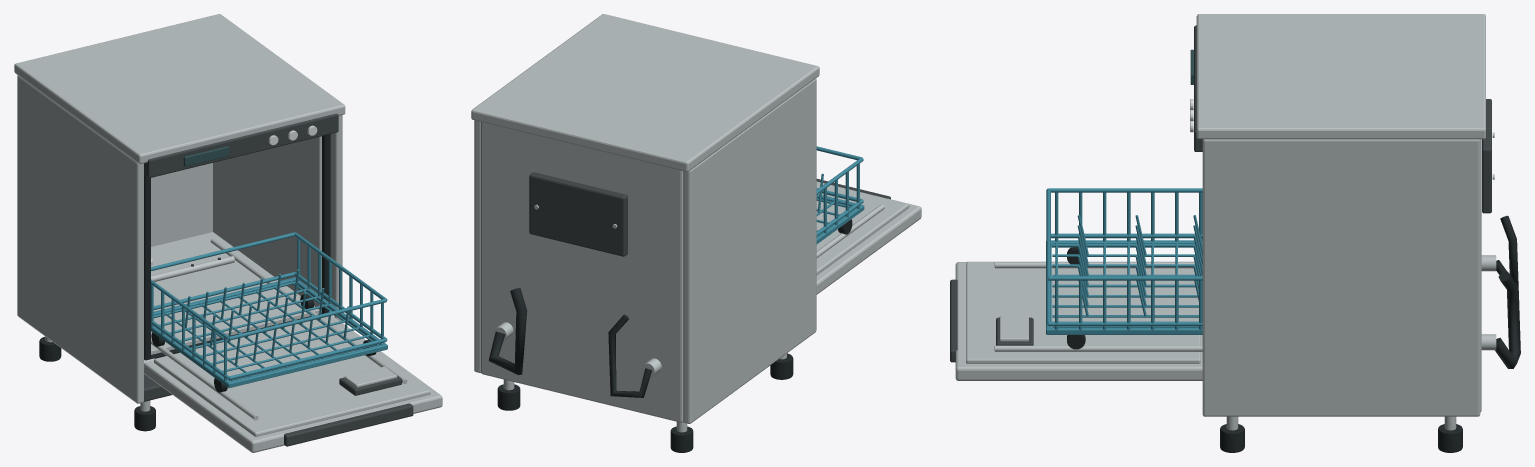
Rendered from city-undercounter-dishwasher.glb.
3 renders of one model, left to right at view 1: azimuth 30°, elevation 25°; view 2: azimuth 150°, elevation 25°; view 3: azimuth 270°, elevation 25°, orthographic. The views are drawn at different scales.
Visible parts, largest first — view 1: Assembly | Satin stainless kitchen metal, Assembly | Muted blue rack polymer, Assembly | Dark service recess, Assembly | Graphite seals and feet, Assembly | Inactive control display; view 2: Assembly | Satin stainless kitchen metal, Assembly | Dark service recess, Assembly | Graphite seals and feet, Assembly | Muted blue rack polymer; view 3: Assembly | Satin stainless kitchen metal, Assembly | Muted blue rack polymer, Assembly | Graphite seals and feet, Assembly | Dark service recess.
Boxes of the visible parts, <box> form: Assembly | Satin stainless kitchen metal: <box>14,14,442,452</box>; Assembly | Muted blue rack polymer: <box>151,232,387,387</box>; Assembly | Dark service recess: <box>144,113,413,446</box>; Assembly | Graphite seals and feet: <box>39,134,376,431</box>; Assembly | Inactive control display: <box>183,146,229,166</box>; Assembly | Satin stainless kitchen metal: <box>471,14,921,432</box>; Assembly | Dark service recess: <box>529,172,890,256</box>; Assembly | Graphite seals and feet: <box>488,219,852,452</box>; Assembly | Muted blue rack polymer: <box>816,146,864,244</box>; Assembly | Satin stainless kitchen metal: <box>955,14,1496,430</box>; Assembly | Muted blue rack polymer: <box>1046,188,1202,334</box>; Assembly | Graphite seals and feet: <box>1067,215,1520,452</box>; Assembly | Dark service recess: <box>950,25,1491,362</box>.
Size of the model in its own units: 0.616 by 0.821 by 1.28.
